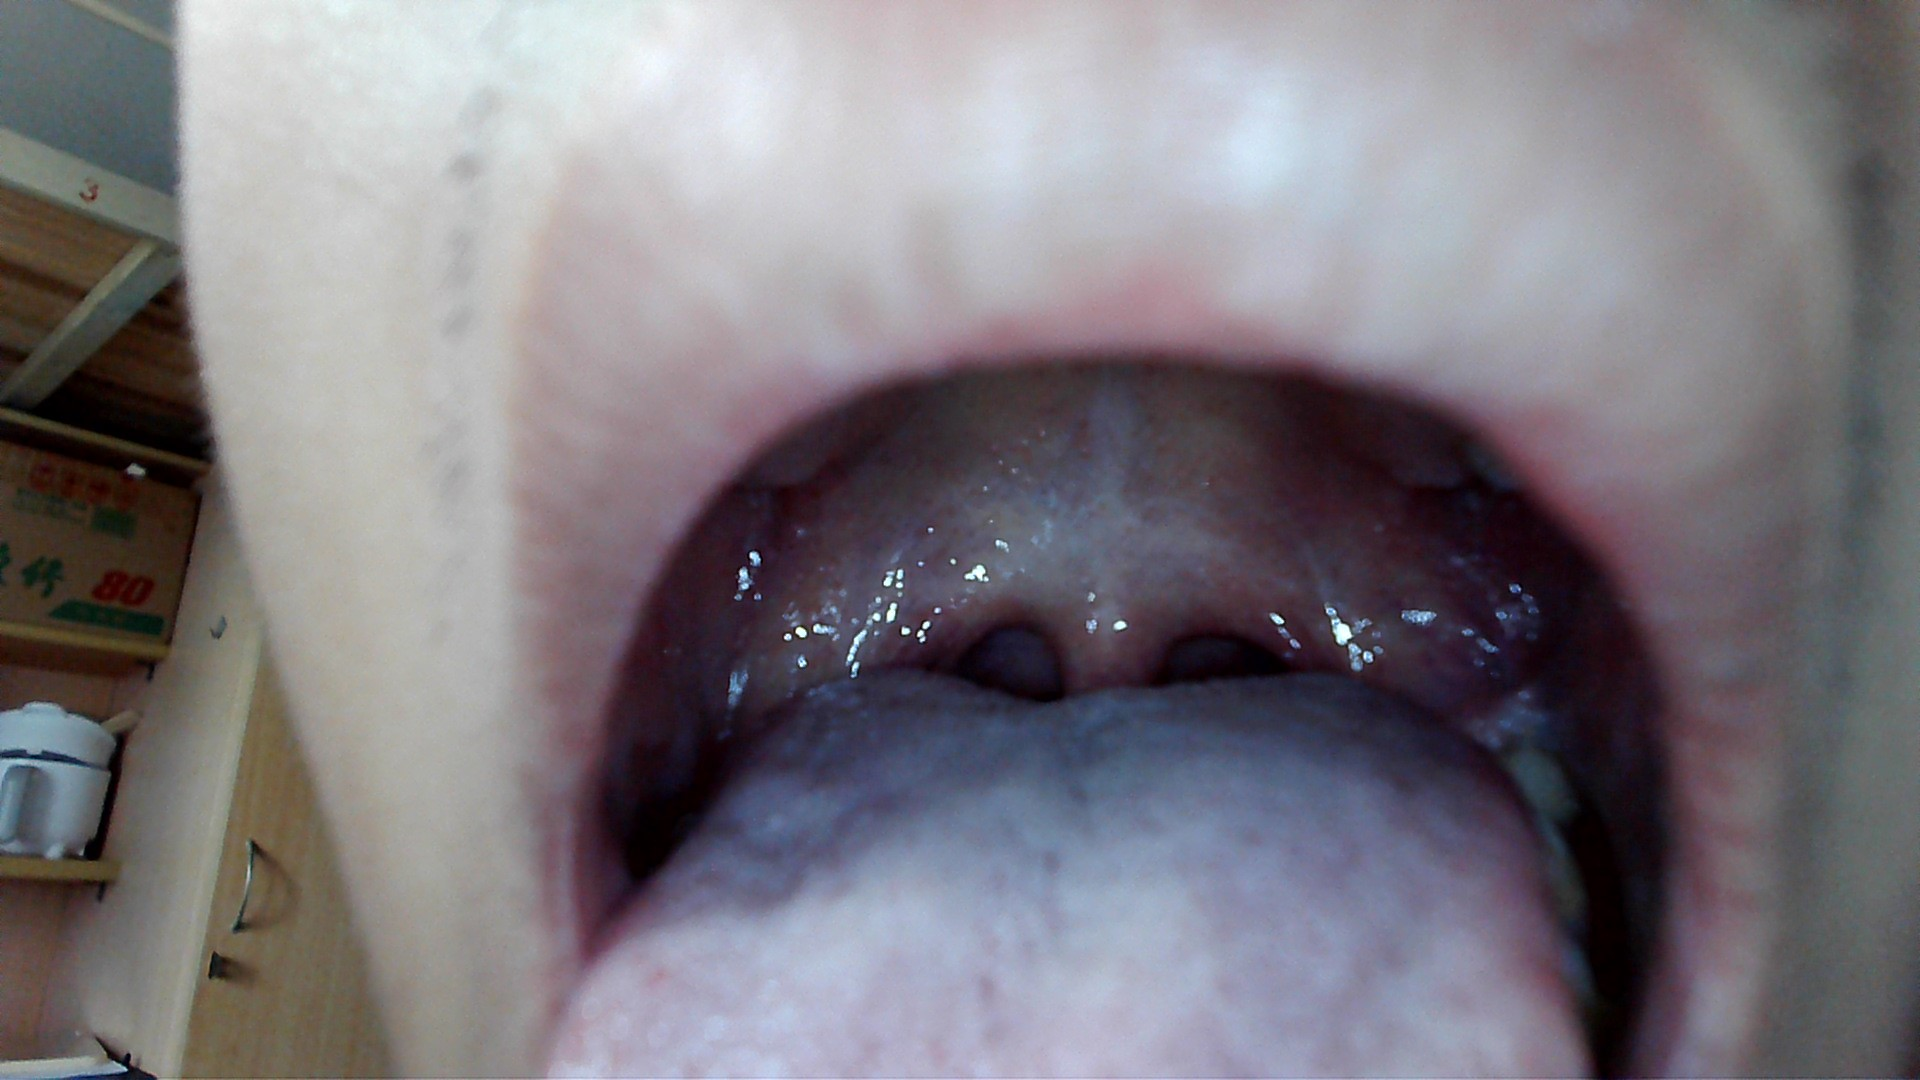throat: (1226, 564, 1350, 673), (898, 568, 1006, 673)
